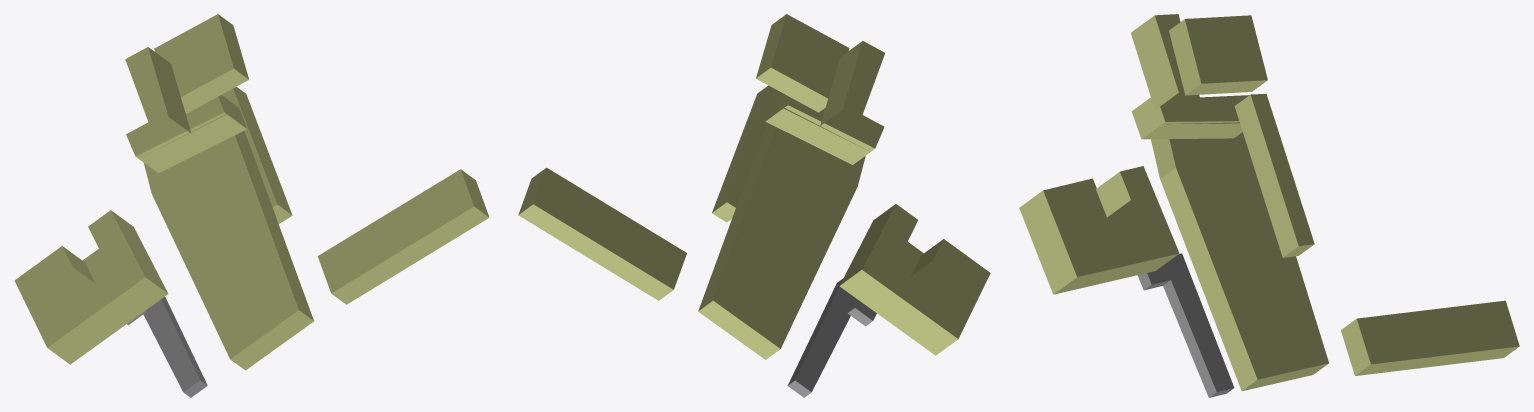
The picture shows the model from 3 angles, left to right: view 1: azimuth 30°, elevation 25°; view 2: azimuth 150°, elevation 25°; view 3: azimuth 330°, elevation 25°; orthographic projection. The views are drawn at different scales.
Parts seen in each view (by area): view 1: 0_1_0_2_0_0_3_2; view 2: 0_1_0_2_0_0_3_2; view 3: 0_1_0_2_0_0_3_2.
Part boxes in pixels (box(x1,y1,x2,y2)): 0_1_0_2_0_0_3_2: box(14, 14, 489, 397); 0_1_0_2_0_0_3_2: box(518, 14, 990, 397); 0_1_0_2_0_0_3_2: box(1019, 14, 1519, 397).
Bounding box in the file's own units: 104 × 80.03 × 9.7.
